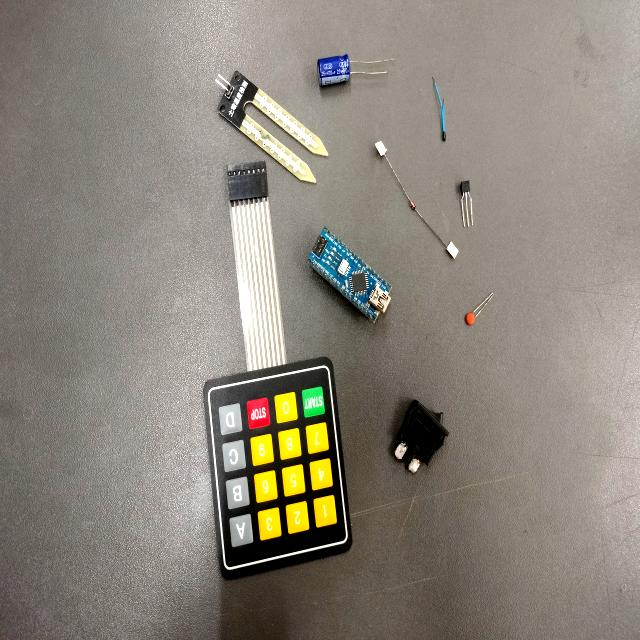Arduino-Nano: (300, 216, 398, 338)
BJT-Transistor: (452, 172, 486, 245)
Capacitor-470mf: (309, 42, 401, 96)
Keypad: (195, 147, 365, 586)
Low-Voltage-Ceramic-Capacitor: (452, 280, 504, 336)
NTC-Thermistor: (424, 68, 461, 154)
Rocker-Switch: (383, 389, 451, 482)
Soil-Moisture-Sensor: (211, 65, 335, 192)
Zener-Diode: (391, 173, 438, 239)
